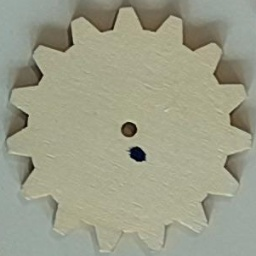Points: (126, 145, 148, 164)
